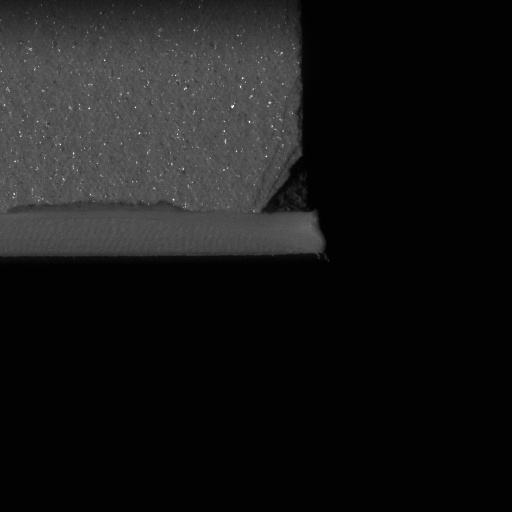bengque: (259, 151, 316, 217)
